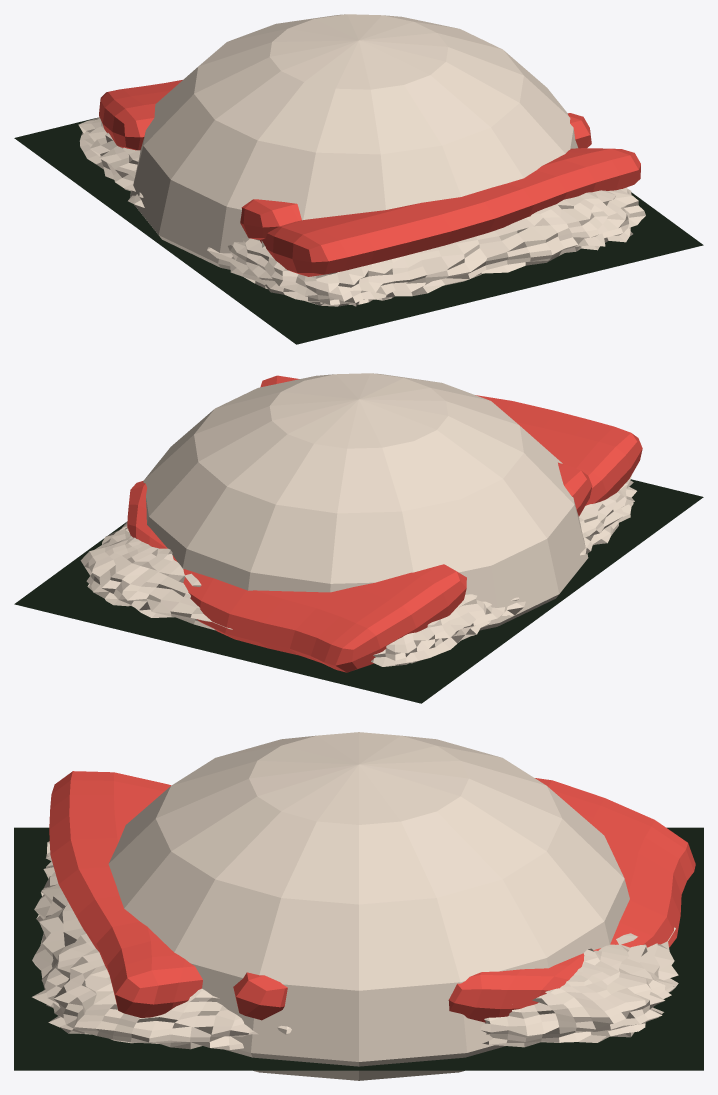
The model's file is ricenori.glb.
3 views of the same model, one above another, from view 1: azimuth 30°, elevation 25°; view 2: azimuth 150°, elevation 25°; view 3: azimuth 270°, elevation 25° (orthographic). The views are drawn at different scales.
Visible parts, largest first — view 1: cookedricecopy, choppedsalmon, spreadrice, nori; view 2: cookedricecopy, choppedsalmon, nori, spreadrice; view 3: cookedricecopy, choppedsalmon, nori, spreadrice.
Boxes of the visible parts, <box> form: cookedricecopy: <box>130,14,577,269</box>; choppedsalmon: <box>99,80,640,276</box>; spreadrice: <box>78,117,645,306</box>; nori: <box>14,118,703,344</box>; cookedricecopy: <box>143,373,588,630</box>; choppedsalmon: <box>127,375,642,672</box>; nori: <box>14,479,703,703</box>; spreadrice: <box>80,475,636,666</box>; cookedricecopy: <box>108,732,629,1080</box>; choppedsalmon: <box>49,771,695,1022</box>; nori: <box>14,827,703,1070</box>; spreadrice: <box>32,841,678,1049</box>.
Bounding box in the file's own units: 2 × 0.7894 × 2.4.
